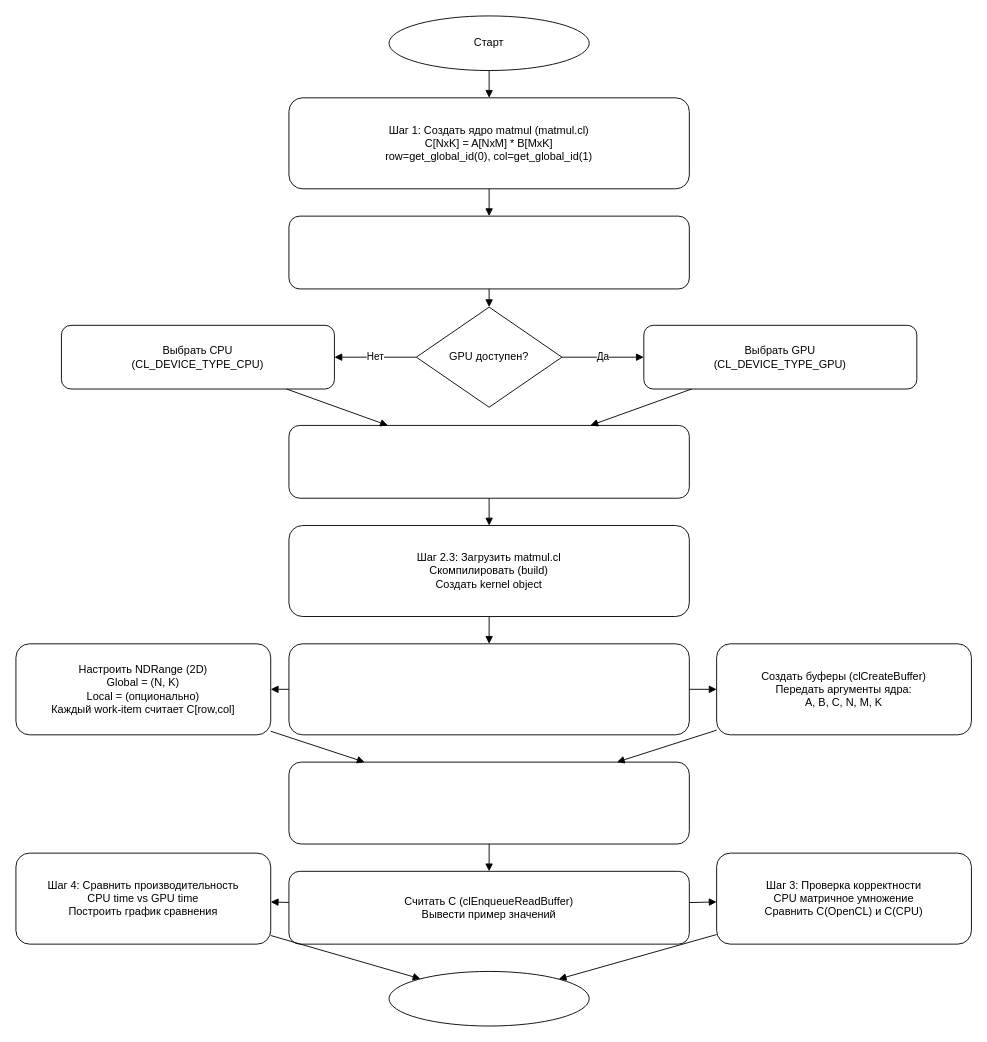
Some shapes in this 987 by 1042 pixel diagram are drawn without their labels. The centre of each missing label's shape, as x and y in pixels:
"Конец" belongs at point 488,998.
"Шаг 2.1: Инициализировать OpenCL Платформа + устройство" belongs at point 488,252.
"Шаг 2.2: Создать контекст и командную очередь" belongs at point 488,461.
"Шаг 2.4: Подготовить матрицы A (N×M), B (M×K), C (N×K) Задать размеры N,M,K" belongs at point 488,689.
"Шаг 3: Запуск ядра matmul (clEnqueueNDRangeKernel) Замер времени выполнения" belongs at point 488,802.
